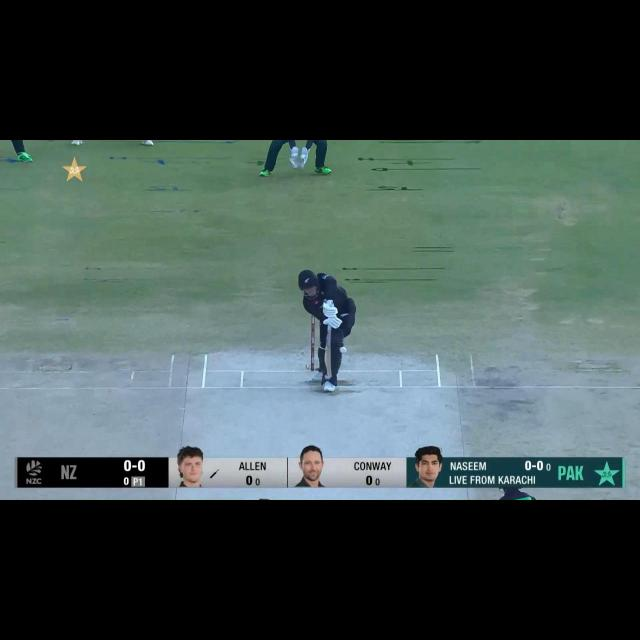bat: (322, 326, 332, 380)
toe: (322, 367, 336, 378)
